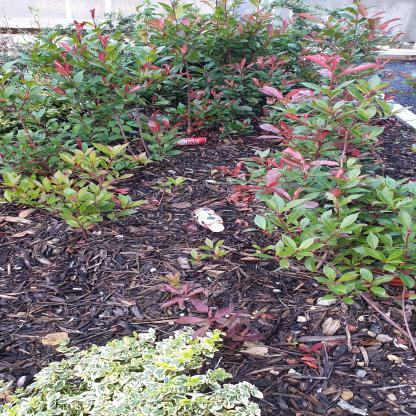plastik: (191, 207, 225, 232)
